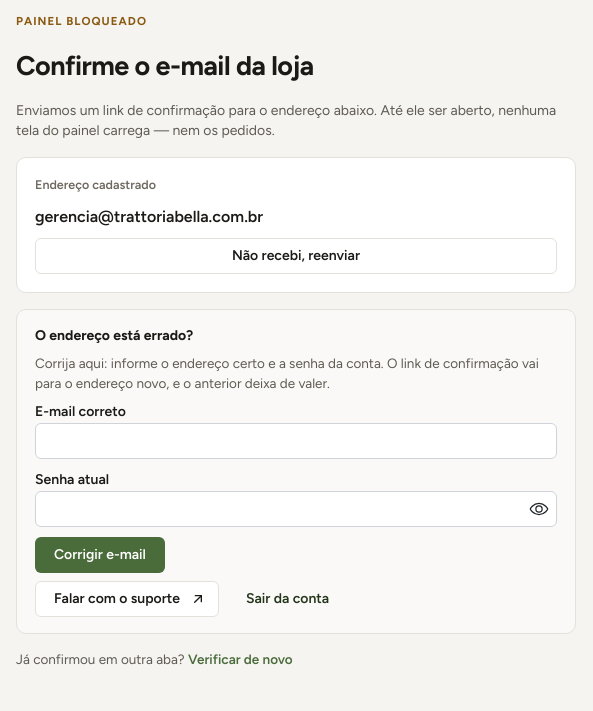
Test: EmailBlockedPage › senha errada mostra o erro e NÃO encerra a sessão
Type "joao@gmail.com" into the field labelled "E-mail correto".
click(296, 441); type("joao@gmail.com")  # box left=35, top=423, right=557, bottom=459
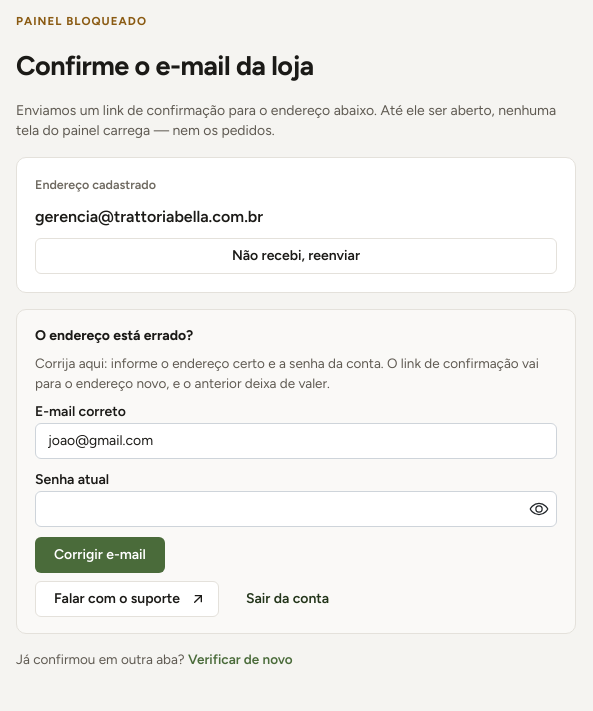
Type "senha-errada" into the password field labelled "Senha atual".
click(296, 508); type("senha-errada")  # box left=36, top=492, right=556, bottom=526
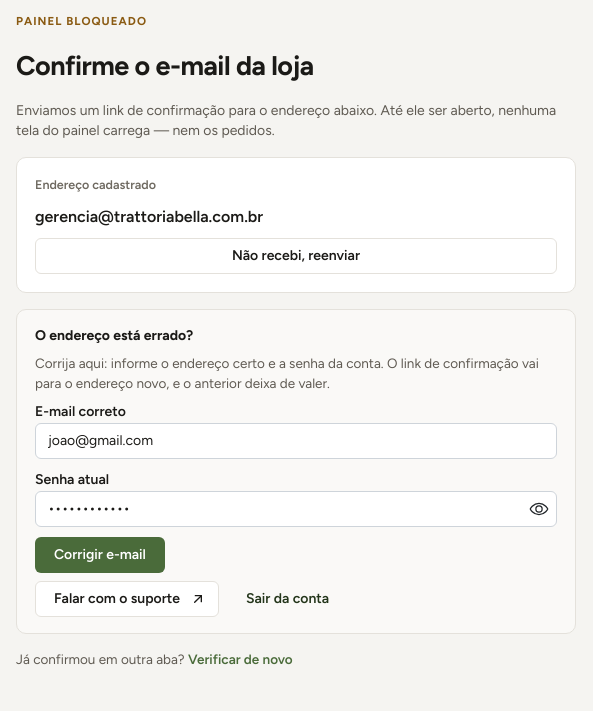
Click the button "Corrigir e-mail".
click(100, 554)  # box left=35, top=536, right=165, bottom=572
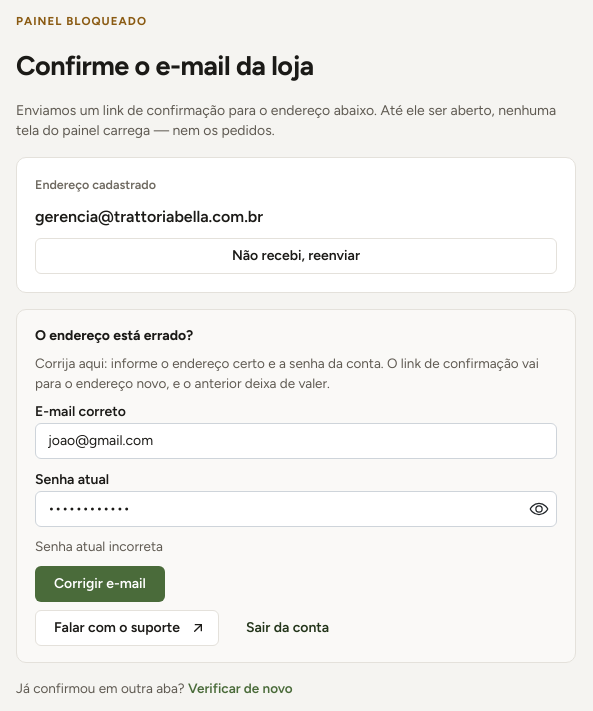
Expected: the text "Senha atual incorreta" is shown, left=35, top=538, right=163, bottom=554
